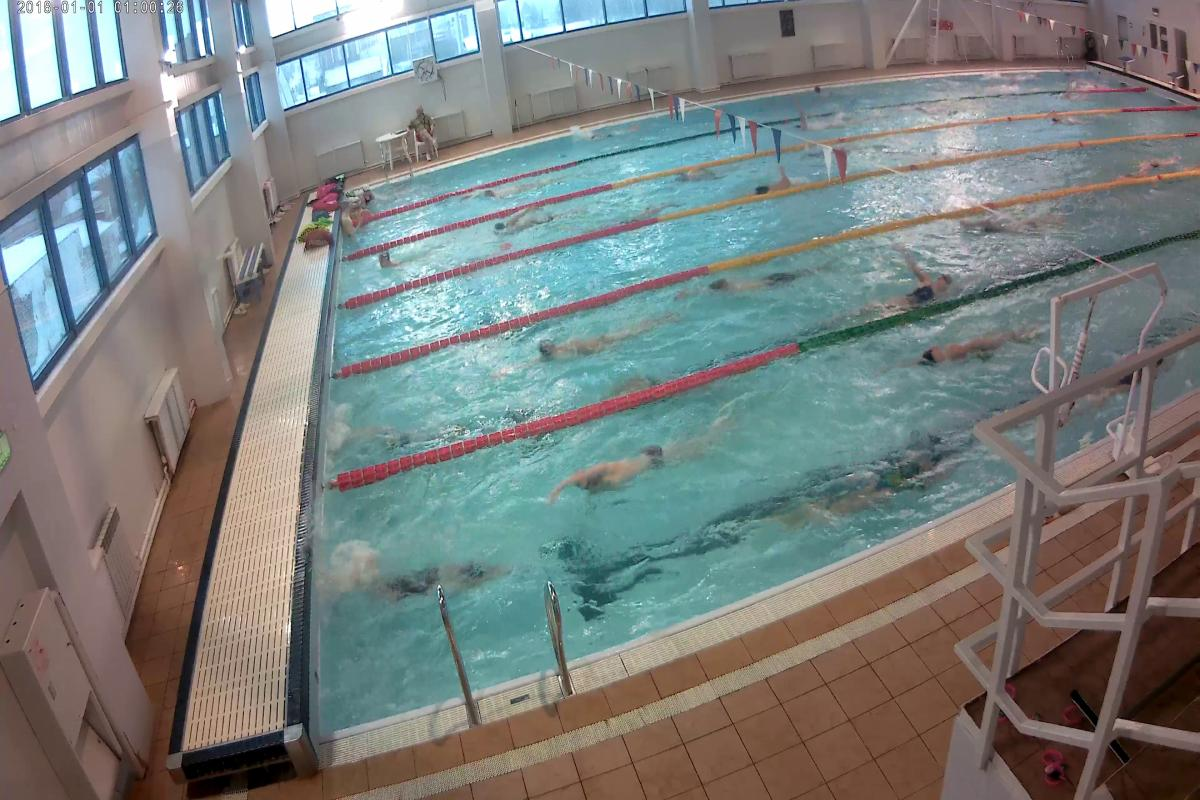swimmer: (552, 420, 730, 498), (826, 441, 963, 511), (346, 556, 503, 608), (895, 328, 1022, 377), (533, 321, 659, 362), (980, 211, 1084, 252), (869, 274, 964, 314), (360, 415, 464, 450), (702, 272, 795, 293), (489, 210, 561, 237), (372, 246, 422, 278), (745, 172, 803, 196)
